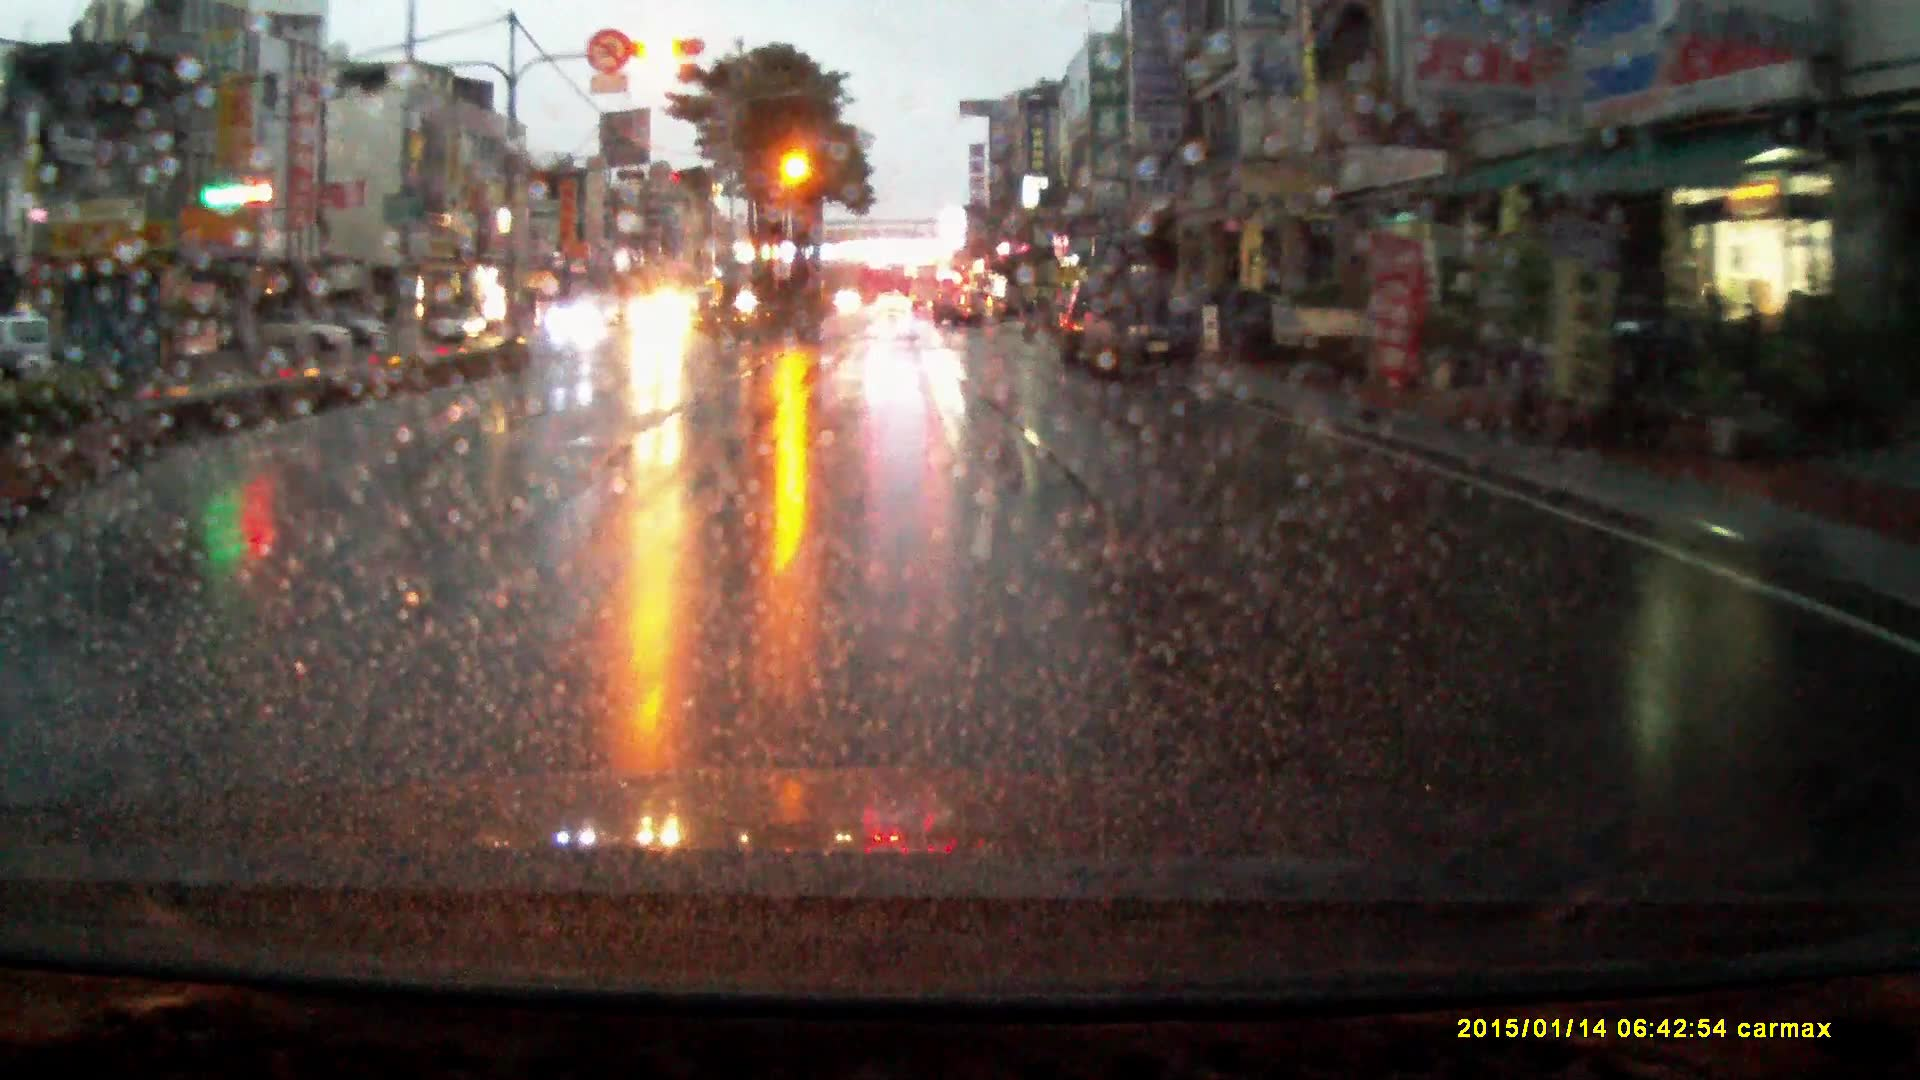vehicle: (1080, 274, 1207, 390), (1270, 310, 1398, 363), (239, 313, 347, 357), (622, 293, 698, 345), (1059, 284, 1096, 371), (934, 287, 997, 331), (326, 316, 398, 353), (550, 305, 611, 344), (427, 307, 488, 345), (911, 269, 944, 313), (876, 295, 913, 319)
